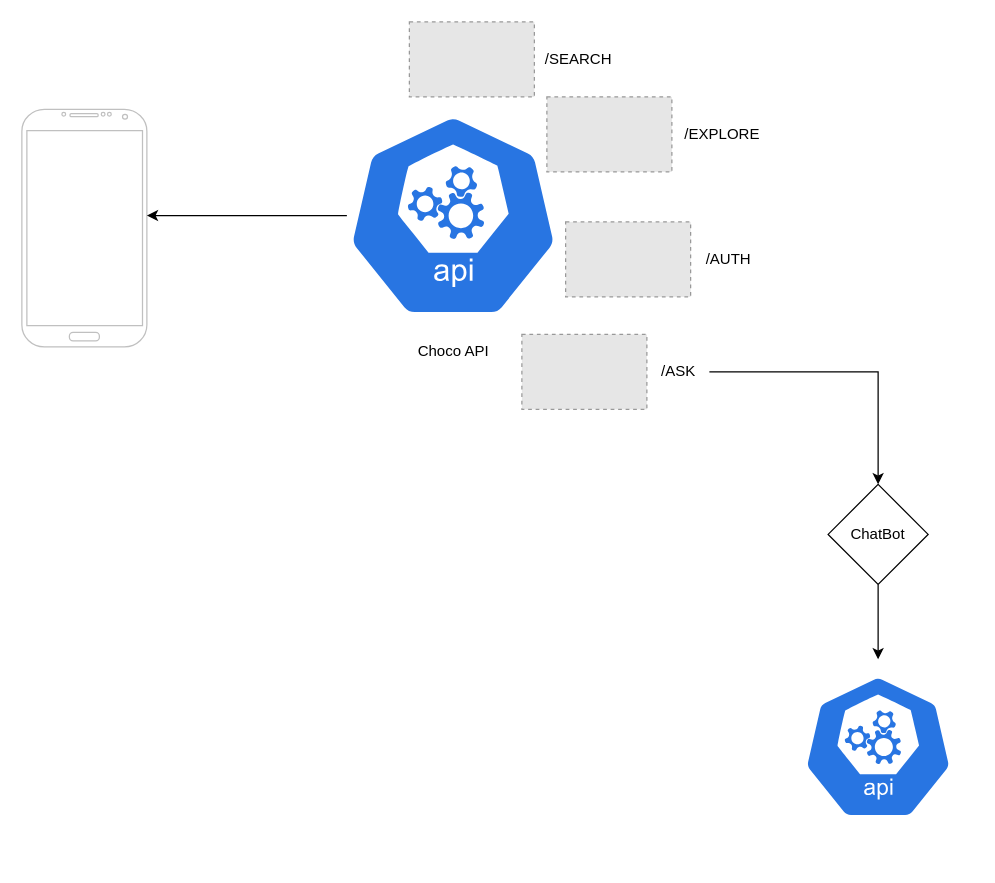
The diagram is 995 pixels wide and 883 high, and some of its shapes have lost their labels. Grey dashed boxes stand in for pictures. The shapes that lost their labels are listed below. From the top down, each one's centre as x and y in pixels, then its label:
point (84, 227): Choco App
point (877, 746): Altier ChatGPT Rpllback API
